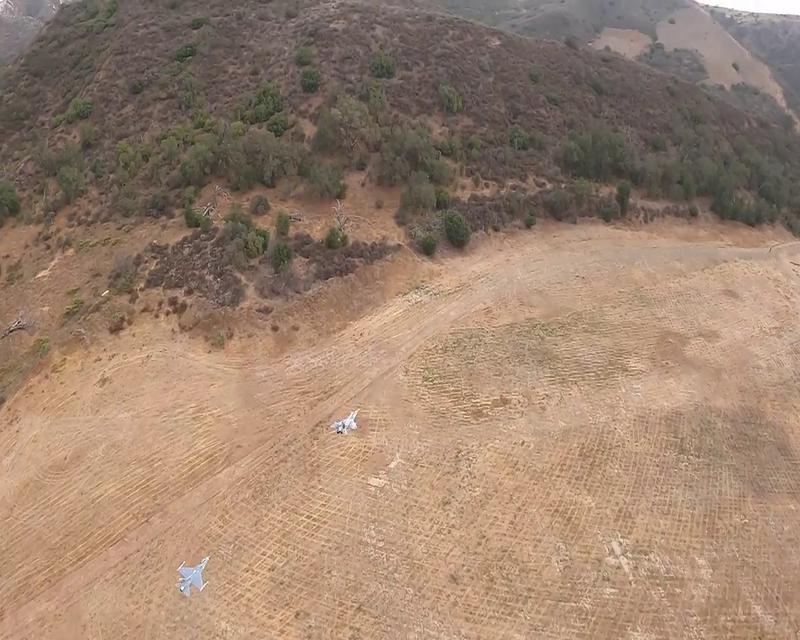UAV: (173, 554, 211, 597), (325, 407, 360, 439)
